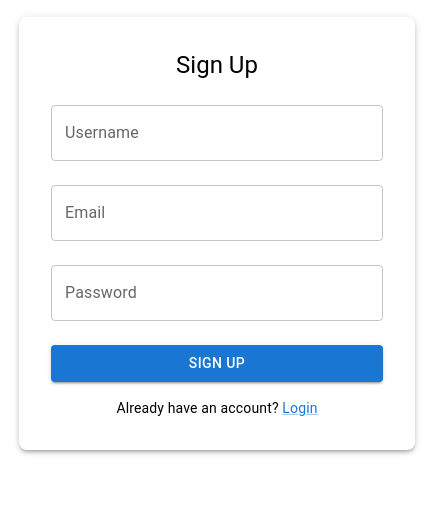
Test: SignupForm › shows error when API request fails
In the field labelled "Username": (217, 133) [51,105,383,161], type "testuser"
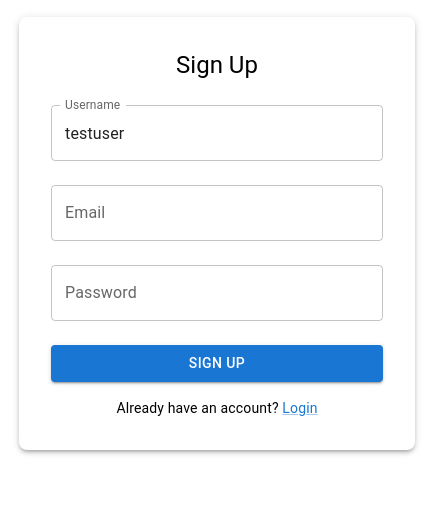
In the field labelled "Email": (217, 213) [51,185,383,241], type "test@example.com"
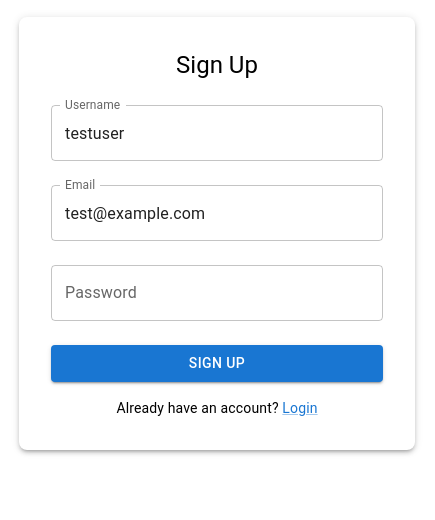
In the password field labelled "Password": (217, 293) [51,265,383,321], type "testpass123"
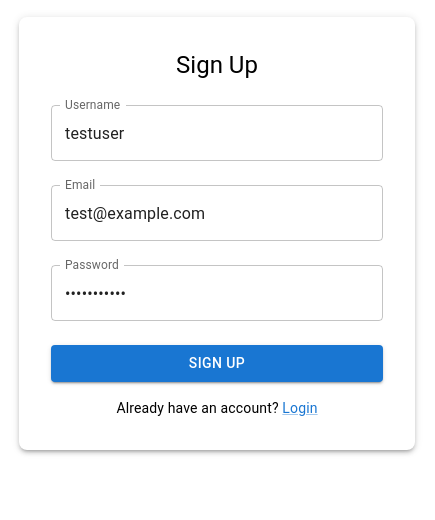
Click the button with test id "signup-submit-button": click(217, 364) [51,345,383,382]
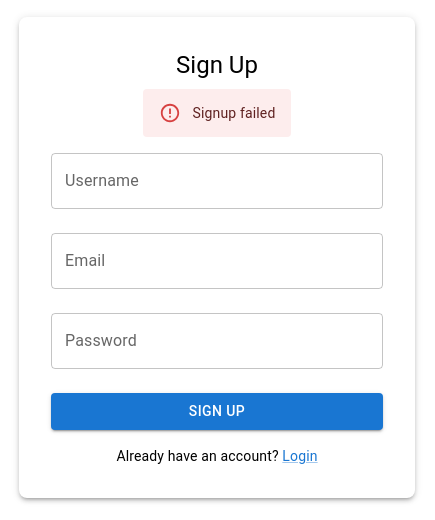
Result: the text "Signup failed" is shown at [192,105,275,121]
Result: the field labelled "Username" is empty at [51,153,383,209]
Result: the field labelled "Email" is empty at [51,233,383,289]
